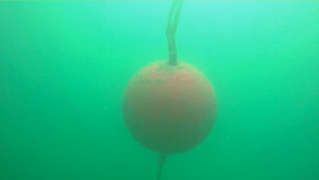bubble: (226, 135, 229, 139)
buoy: (121, 59, 217, 156)
